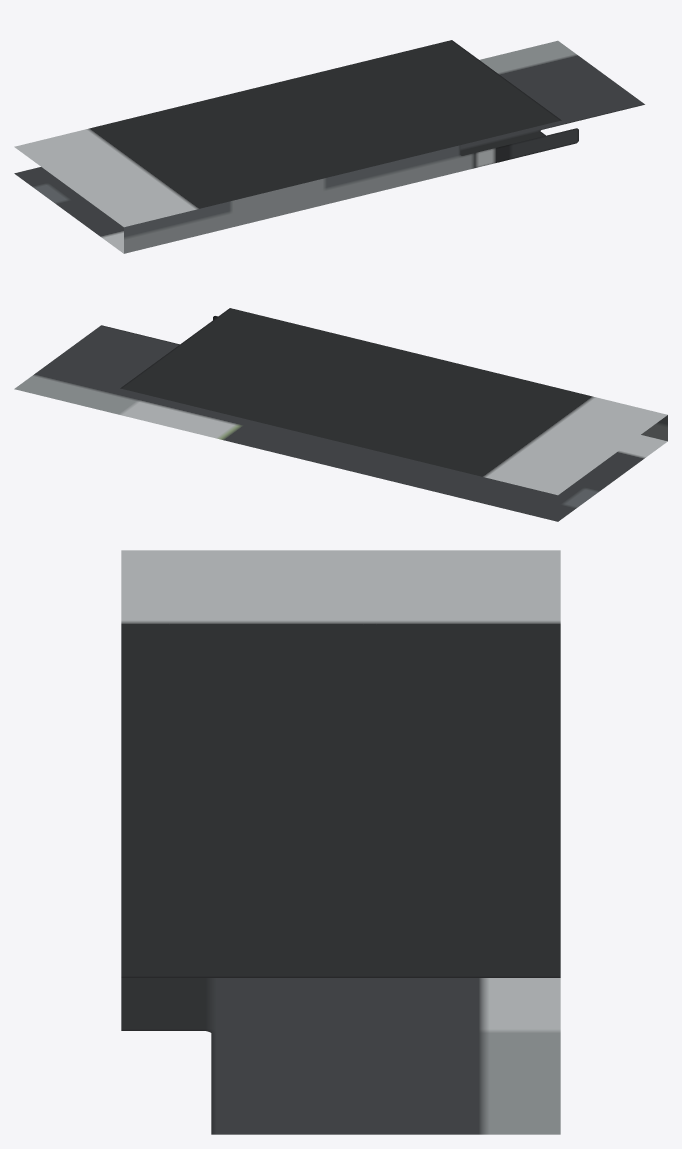
File: section-6.obj
3 views of the same model, one above another, from view 1: azimuth 30°, elevation 25°; view 2: azimuth 150°, elevation 25°; view 3: azimuth 270°, elevation 25° (orthographic). The views are drawn at different scales.
Size of the model in its own units: 1 by 0.0467 by 0.3499.
